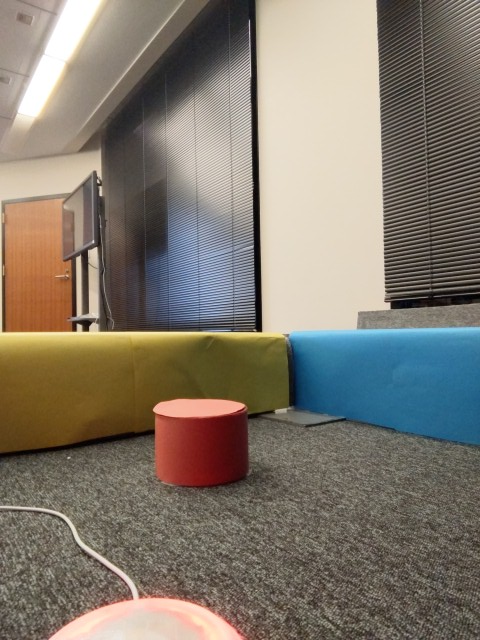r: (46, 596, 243, 640)
